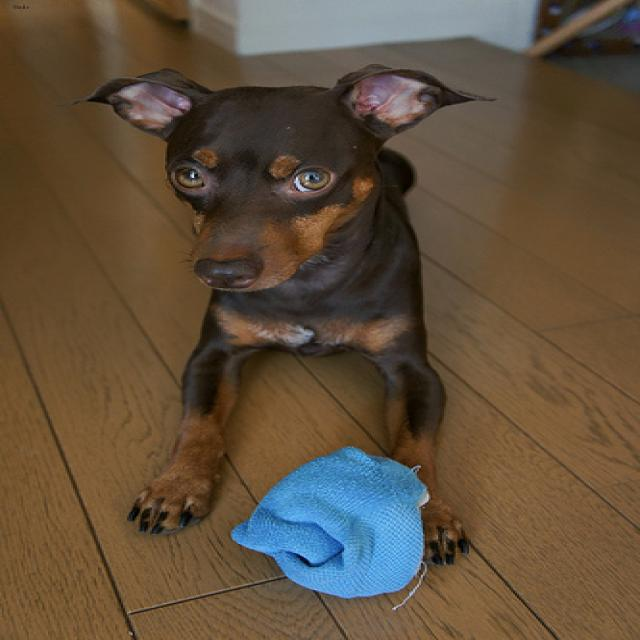dog-miniature_pinscher: (63, 55, 498, 571)
